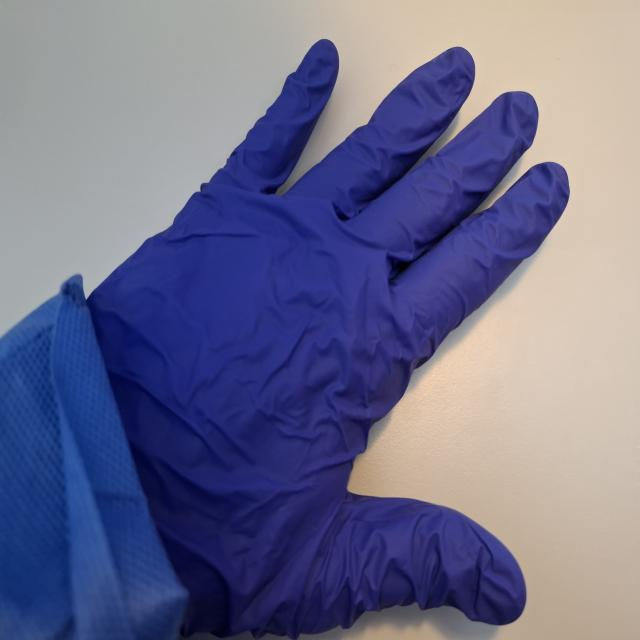glove_on: (80, 35, 572, 640)
